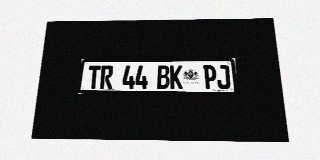4: (122, 65, 135, 89), (135, 65, 148, 89)
B: (157, 65, 169, 89)
J: (216, 65, 231, 89)
K: (170, 65, 183, 89)
P: (203, 65, 217, 89)
R: (100, 65, 113, 89)
T: (87, 66, 101, 89)
